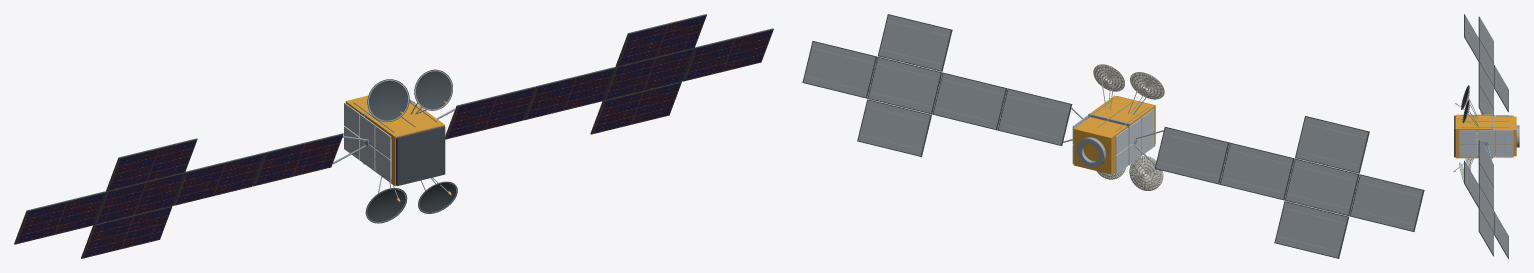
The model's file is astra-1p.glb.
The picture shows the model from 3 angles, left to right: view 1: azimuth 30°, elevation 25°; view 2: azimuth 150°, elevation 25°; view 3: azimuth 270°, elevation 25°; orthographic projection. The views are drawn at different scales.
Parts seen in each view (by area): view 1: Solar cell panel (×12), Earth-facing deck, Payload module, Reflector 3 face, Reflector 4 face, Reflector 1 face, Reflector 2 face; view 2: Rear array substrate (×12), Solar panel frame (×9), Service module, Payload module, Reflector 1 insulated back, Reflector 3 insulated back, Reflector 4 insulated back, Launch adapter ring; view 3: Rear array substrate (×12), Radiator bay (×6), Solar panel frame (×10), Payload module, Service module, Launch adapter ring, Reflector 3 face, Earth-facing deck, Reflector 4 face, Reflector 2 insulated back, Reflector 3 edge.
Boxes of the visible parts, x1,y1,x2,y2 form: Solar cell panel (×12): [16, 16, 772, 257]; Earth-facing deck: [396, 126, 445, 185]; Payload module: [365, 102, 444, 186]; Reflector 3 face: [367, 79, 409, 122]; Reflector 4 face: [414, 69, 452, 110]; Reflector 1 face: [366, 188, 407, 223]; Reflector 2 face: [418, 182, 457, 213]; Rear array substrate (×12): [803, 15, 1422, 257]; Solar panel frame (×9): [857, 14, 1424, 258]; Service module: [1073, 117, 1127, 174]; Payload module: [1090, 95, 1155, 146]; Reflector 1 insulated back: [1129, 156, 1162, 190]; Reflector 3 insulated back: [1130, 72, 1164, 99]; Reflector 4 insulated back: [1093, 64, 1124, 91]; Launch adapter ring: [1076, 137, 1106, 167]; Rear array substrate (×12): [1465, 15, 1508, 257]; Radiator bay (×6): [1459, 130, 1513, 157]; Solar panel frame (×10): [1464, 14, 1508, 258]; Payload module: [1455, 114, 1491, 158]; Service module: [1493, 116, 1516, 156]; Launch adapter ring: [1516, 125, 1519, 147]; Reflector 3 face: [1461, 85, 1468, 109]; Earth-facing deck: [1454, 115, 1455, 157]; Reflector 4 face: [1462, 99, 1469, 122]; Reflector 2 insulated back: [1459, 162, 1463, 180]; Reflector 3 edge: [1461, 85, 1469, 109].
Size of the model in its own units: 44.95 by 8.24 by 5.89.
9 materials, 2 textured.
